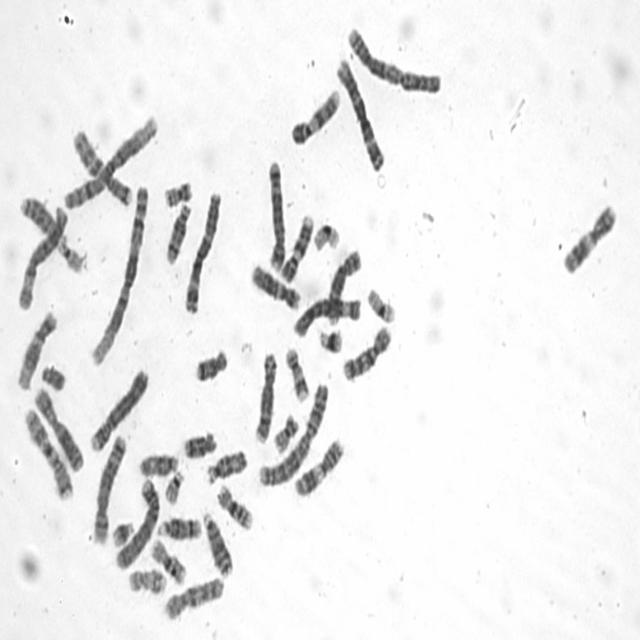A1: (87, 180, 150, 368), (61, 108, 160, 210)
A2: (255, 376, 330, 490), (344, 19, 444, 96)
A3: (332, 52, 387, 173), (180, 184, 223, 316)
B4: (86, 362, 150, 454), (112, 471, 162, 572)
B5: (89, 428, 128, 546), (264, 154, 286, 274)
C10: (338, 319, 393, 384), (160, 570, 226, 623)
C11: (559, 196, 619, 276), (290, 432, 345, 498)
C12: (13, 304, 58, 392), (246, 256, 301, 312)
C6: (13, 199, 69, 312), (289, 290, 363, 340)
C7: (20, 402, 74, 502), (69, 124, 134, 207)
C8: (324, 242, 364, 327), (251, 345, 279, 446)
C9: (288, 82, 342, 147), (276, 208, 314, 284)
D13: (199, 506, 234, 579)
D14: (162, 197, 192, 266), (153, 510, 203, 541)
D15: (202, 444, 249, 486), (136, 446, 180, 479)
E16: (213, 478, 255, 532), (147, 532, 188, 586)
E17: (282, 341, 310, 404), (125, 562, 167, 596)
E18: (192, 342, 229, 383), (180, 425, 218, 461)
F19: (363, 282, 397, 324), (309, 217, 342, 253)
F20: (271, 408, 300, 455), (160, 174, 194, 209)
G21: (108, 512, 136, 548), (315, 322, 344, 355)
G22: (54, 230, 84, 274), (161, 464, 185, 506)
X: (30, 380, 85, 474)
Y: (38, 358, 67, 392)
